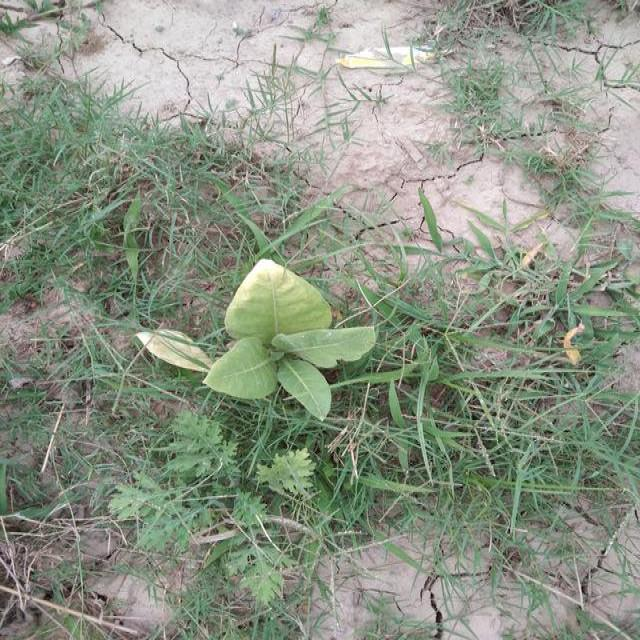crop: (132, 255, 394, 434)
